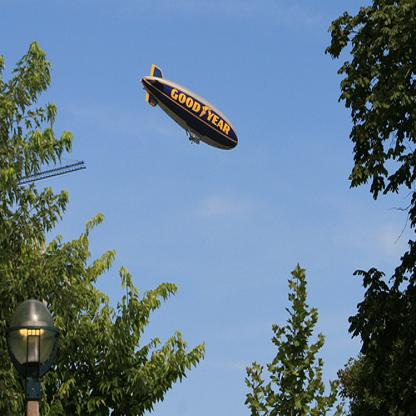Airship: (139, 61, 244, 159)
